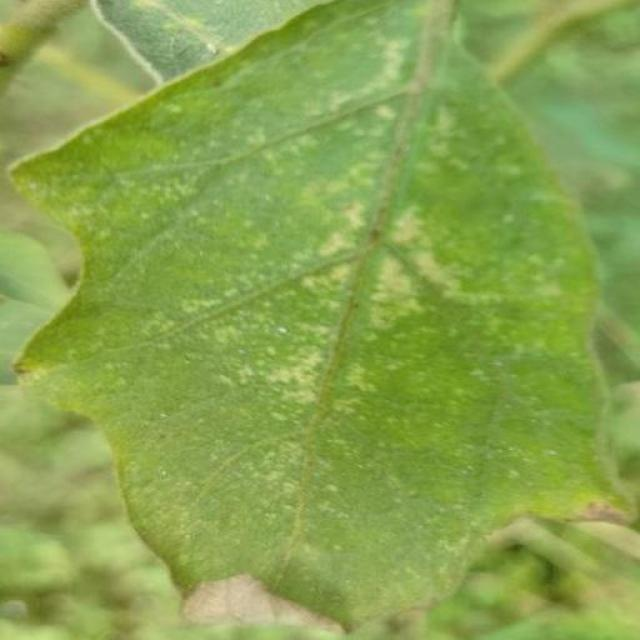leaf_spot: (302, 154, 479, 364), (18, 146, 272, 252), (76, 408, 216, 576), (218, 401, 352, 547), (175, 566, 337, 640), (321, 560, 453, 634), (153, 282, 270, 356), (5, 332, 90, 430), (350, 15, 413, 130), (238, 342, 335, 414), (374, 234, 427, 335), (550, 479, 637, 540), (341, 246, 395, 334), (228, 120, 326, 168), (410, 244, 473, 308), (318, 349, 386, 407), (520, 240, 567, 317), (125, 0, 212, 31), (424, 91, 458, 170), (315, 212, 360, 264), (306, 253, 354, 300), (388, 192, 423, 256), (326, 190, 375, 233), (340, 155, 388, 192), (370, 94, 400, 129), (497, 201, 522, 228), (488, 132, 513, 150)
